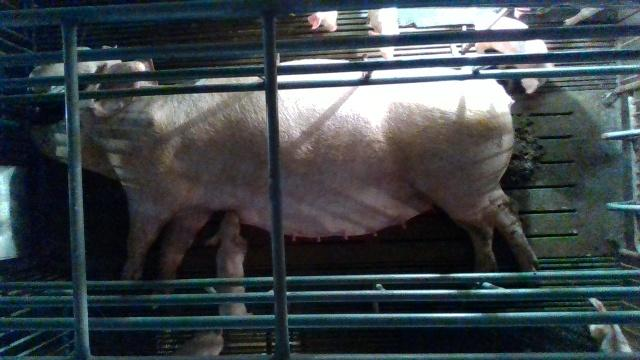piglet: (473, 13, 555, 95), (203, 209, 254, 316), (28, 43, 123, 93), (587, 297, 633, 353), (365, 7, 400, 62), (168, 328, 225, 356), (306, 9, 340, 32)
sow-sleep-lactate: (32, 58, 540, 309)
